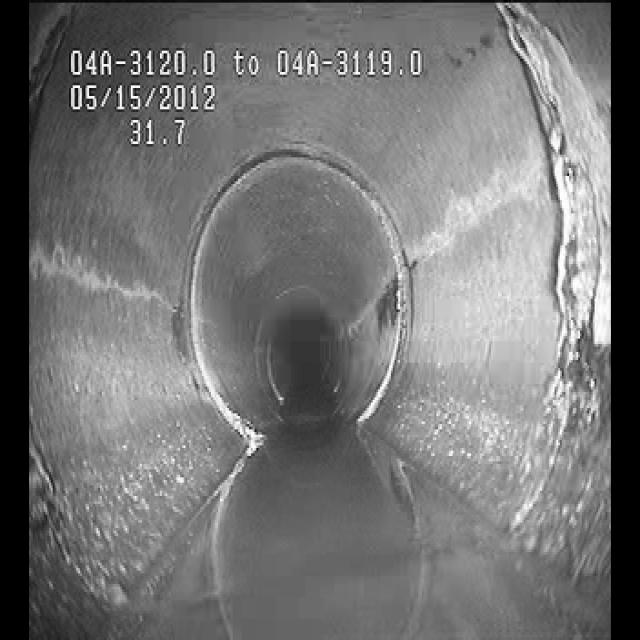Crack: (41, 222, 174, 324)
Fracture: (503, 18, 601, 500)
